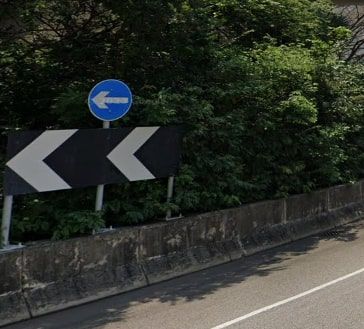Turn Left: (86, 75, 131, 121)
Turn Left(quick): (2, 122, 176, 199)
